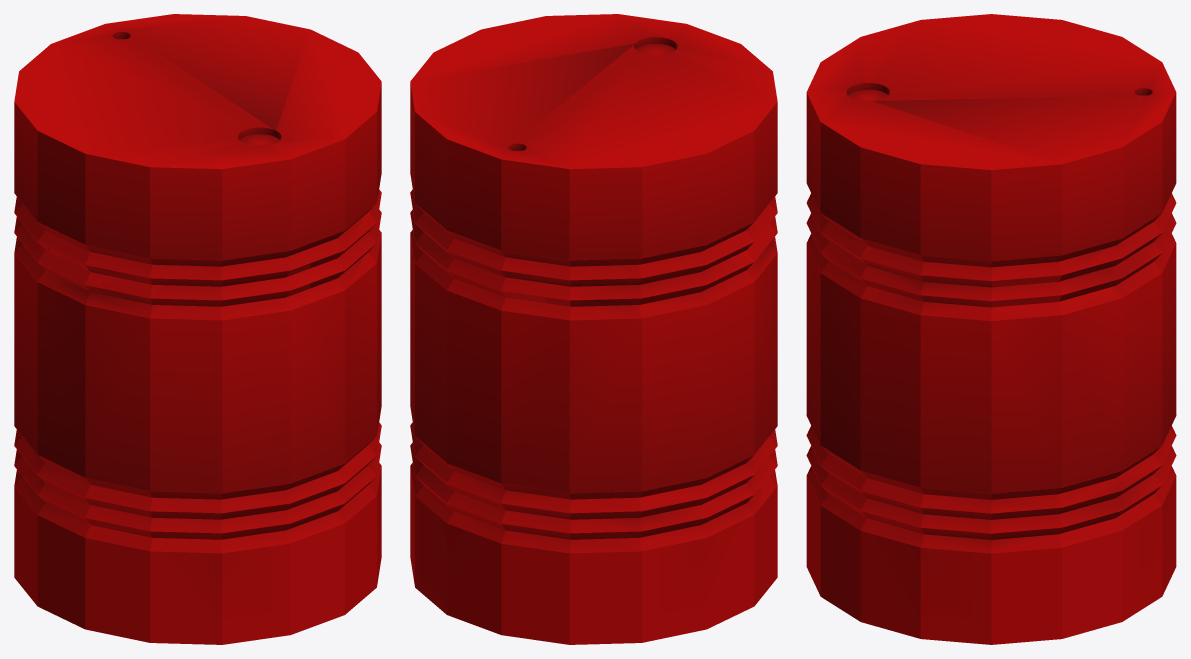
3 views of the same model, side by side, from view 1: azimuth 30°, elevation 25°; view 2: azimuth 150°, elevation 25°; view 3: azimuth 270°, elevation 25° (orthographic).
Visible parts, largest first — view 1: lower_wall; view 2: lower_wall; view 3: lower_wall.
Boxes of the visible parts, x1=… form: lower_wall: x1=14, y1=14, x2=381, y2=644; lower_wall: x1=410, y1=14, x2=777, y2=644; lower_wall: x1=806, y1=14, x2=1176, y2=644.
Size of the model in its own units: 0.4084 by 0.578 by 0.4084.
